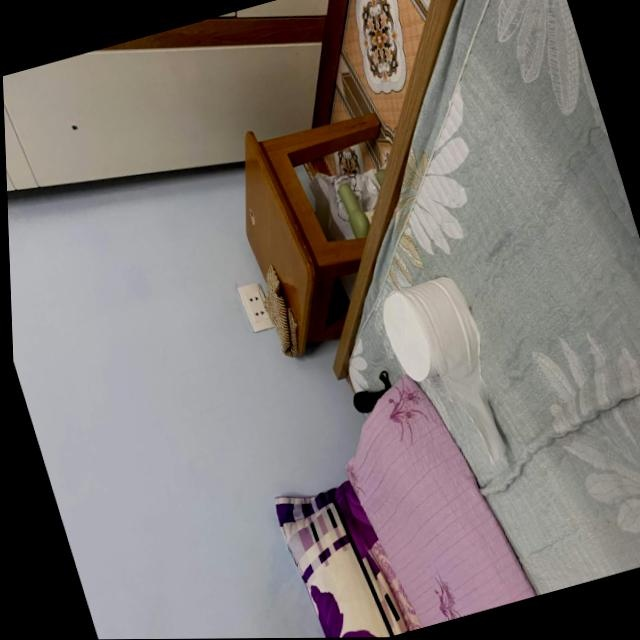outlet: (236, 279, 276, 333)
